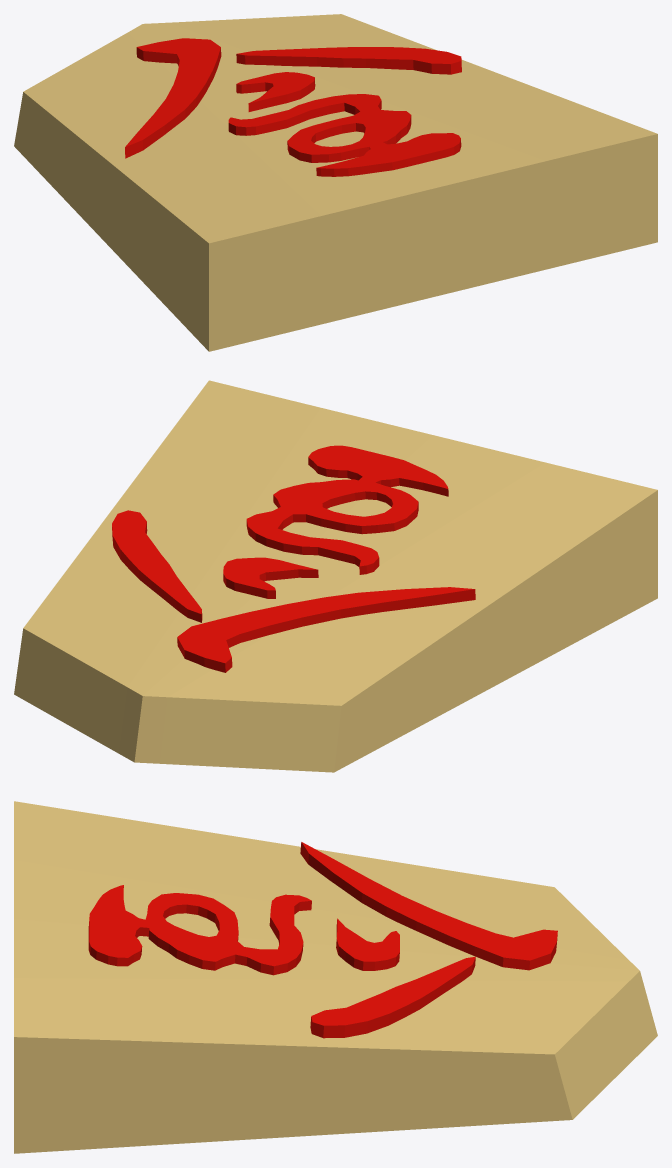
File: CavalierDor.fbx
The picture shows the model from 3 angles, top to bottom: view 1: azimuth 30°, elevation 25°; view 2: azimuth 150°, elevation 25°; view 3: azimuth 270°, elevation 25°; orthographic projection. The views are drawn at different scales.
Visible parts, largest first — view 1: CavalierDor; view 2: CavalierDor; view 3: CavalierDor.
Boxes of the visible parts, x1=… form: CavalierDor: x1=14, y1=14, x2=657, y2=351; CavalierDor: x1=14, y1=380, x2=657, y2=772; CavalierDor: x1=14, y1=801, x2=657, y2=1153.
Bounding box in the file's own units: 63.4 × 73.15 × 14.92.
